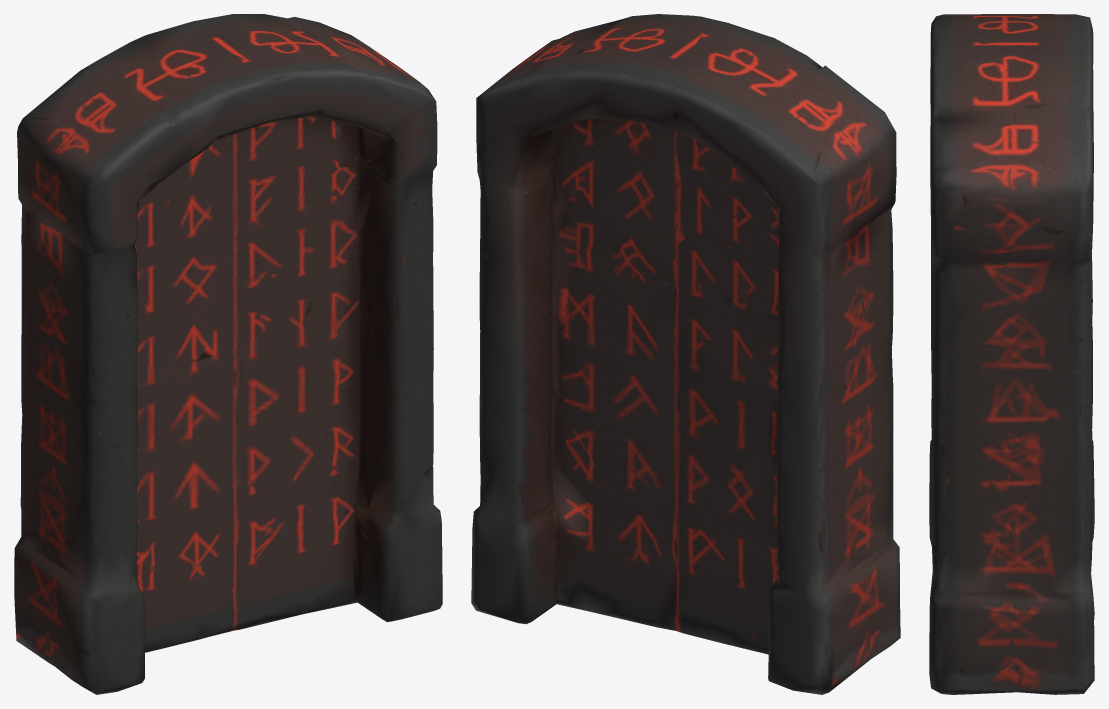
The model's file is runic_door_sealed.glb.
3 views of the same model, side by side, from view 1: azimuth 30°, elevation 25°; view 2: azimuth 150°, elevation 25°; view 3: azimuth 270°, elevation 25° (orthographic).
Bounding box in the file's own units: 1.31 × 2 × 0.5267.
1 material, 1 textured.
